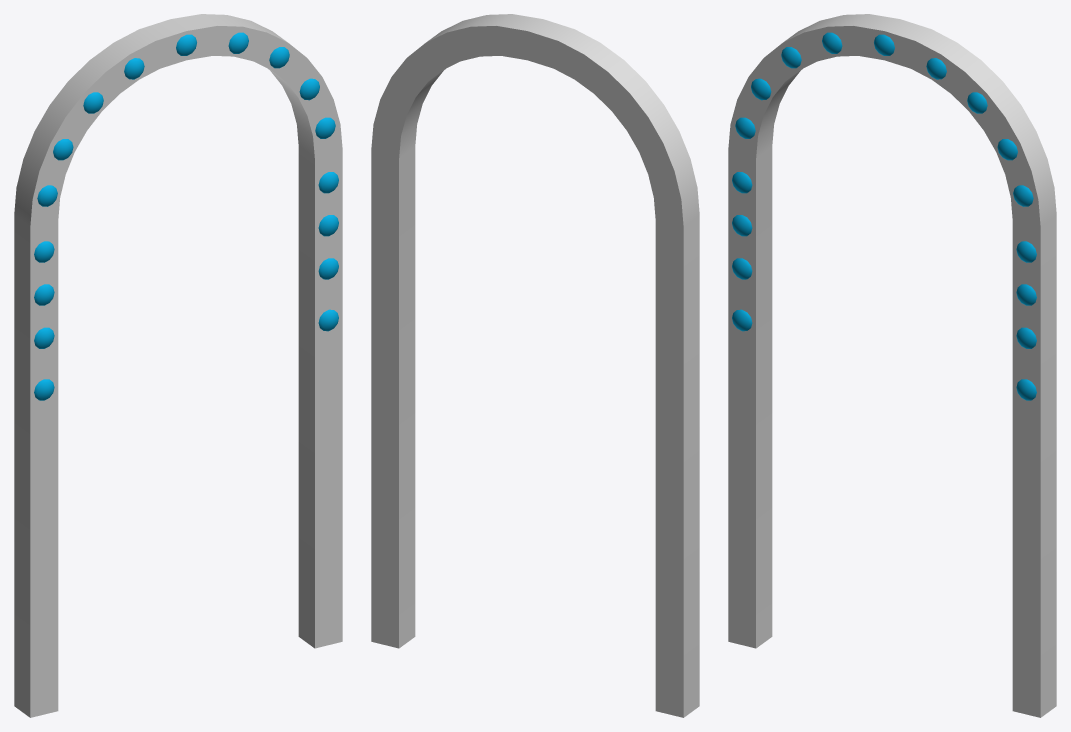
Rendered from end 1.fbx.
The picture shows the model from 3 angles, left to right: view 1: azimuth 30°, elevation 25°; view 2: azimuth 150°, elevation 25°; view 3: azimuth 330°, elevation 25°; orthographic projection.
Parts seen in each view (by area): view 1: Plane; view 2: Plane; view 3: Plane.
Part boxes in pixels (x1,y1,x2,y2): Plane: (14, 14, 342, 717); Plane: (371, 14, 699, 717); Plane: (728, 14, 1056, 717).
Bounding box in the file's own units: 1228 × 2437 × 125.
